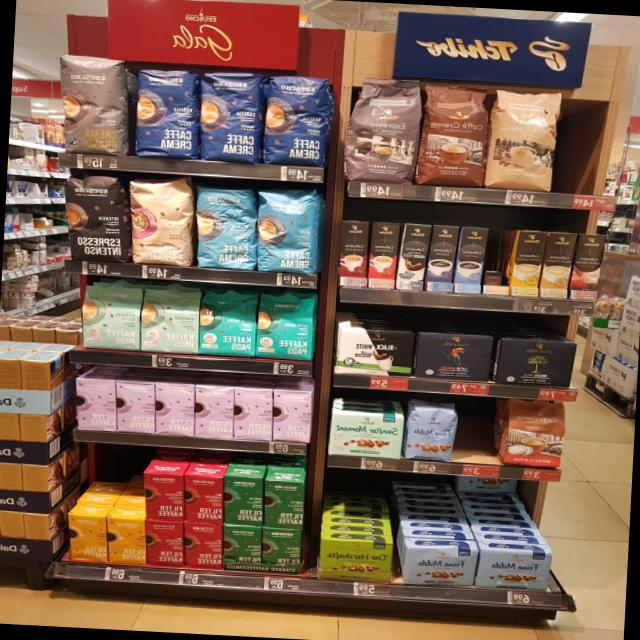BM Gemahlen: (334, 326, 416, 378), (494, 338, 578, 388)
CC Mild: (482, 86, 564, 195)
CC Vollmundig: (496, 399, 568, 469)
CC Vollmundig 36 Pads: (412, 80, 494, 190)
Empty Shelf: (452, 405, 500, 464), (481, 229, 520, 295)
Espresso M Art: (339, 75, 426, 187)
FM Bohne: (401, 399, 459, 463)
FM Gemahlen: (474, 547, 554, 592), (401, 544, 481, 588)
Herzhatfe Mundig: (315, 536, 395, 584)
LG Gemahlen: (412, 331, 496, 383)
SM Gemahlen: (326, 410, 404, 459)
Simo CC Colombia: (568, 232, 609, 300)
Simo CCMild bigpack: (509, 229, 548, 297)
Simo Decaff: (538, 231, 579, 299)
Simo Es Elegant: (366, 220, 401, 289)
Simo Es Kraft: (338, 220, 370, 288)
Simo Kaffee BW: (395, 223, 432, 292)
Simo Kaffee Kraft: (424, 224, 461, 293)
Simo Kaffee Mild: (452, 225, 490, 294)
